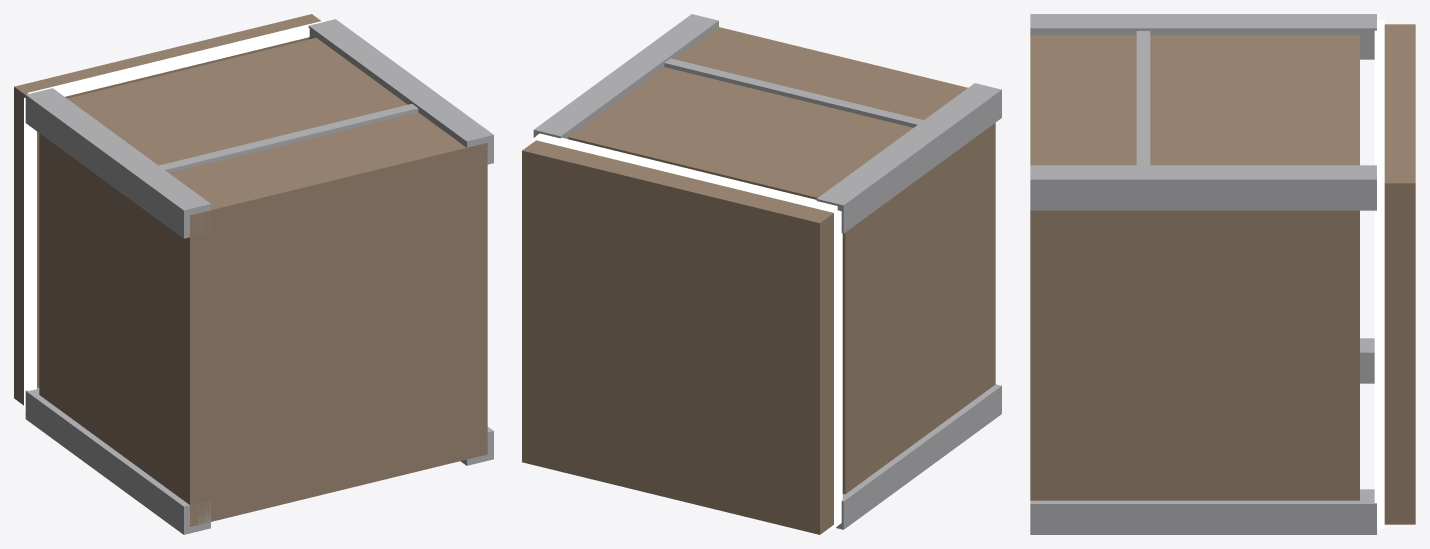
File: crate_rare.glb
3 renders of one model, left to right at view 1: azimuth 30°, elevation 25°; view 2: azimuth 150°, elevation 25°; view 3: azimuth 270°, elevation 25°, orthographic. The views are drawn at different scales.
Parts seen in each view (by area): view 1: crate_body, lid_q3, seam_back, seam_left, lid_q1, lid_q4; view 2: crate_body, lid_q3, lid_q1, lid_q4, lid_q2, seam_back, seam_left; view 3: crate_body, lid_q4, lid_q2, seam_right, lid_q3, seam_back.
Boxes of the visible parts, x1,y1,x2,y2 form: crate_body: (25,19,493,534); lid_q3: (14,50,178,251); seam_back: (28,20,326,96); seam_left: (24,97,36,410); lid_q1: (14,243,39,405); lid_q4: (163,14,320,70); crate_body: (533,14,1001,529); lid_q3: (671,176,833,378); lid_q1: (671,343,833,534); lid_q4: (522,140,684,342); lid_q2: (522,306,670,498); seam_back: (536,133,837,212); seam_left: (834,210,842,525); crate_body: (1030,14,1376,534); lid_q4: (1384,103,1415,353); lid_q2: (1384,354,1415,524); seam_right: (1374,183,1384,526); lid_q3: (1384,24,1415,103); seam_back: (1374,19,1384,183).
Bounding box in the file's own units: 1.14 × 1.14 × 1.12.
